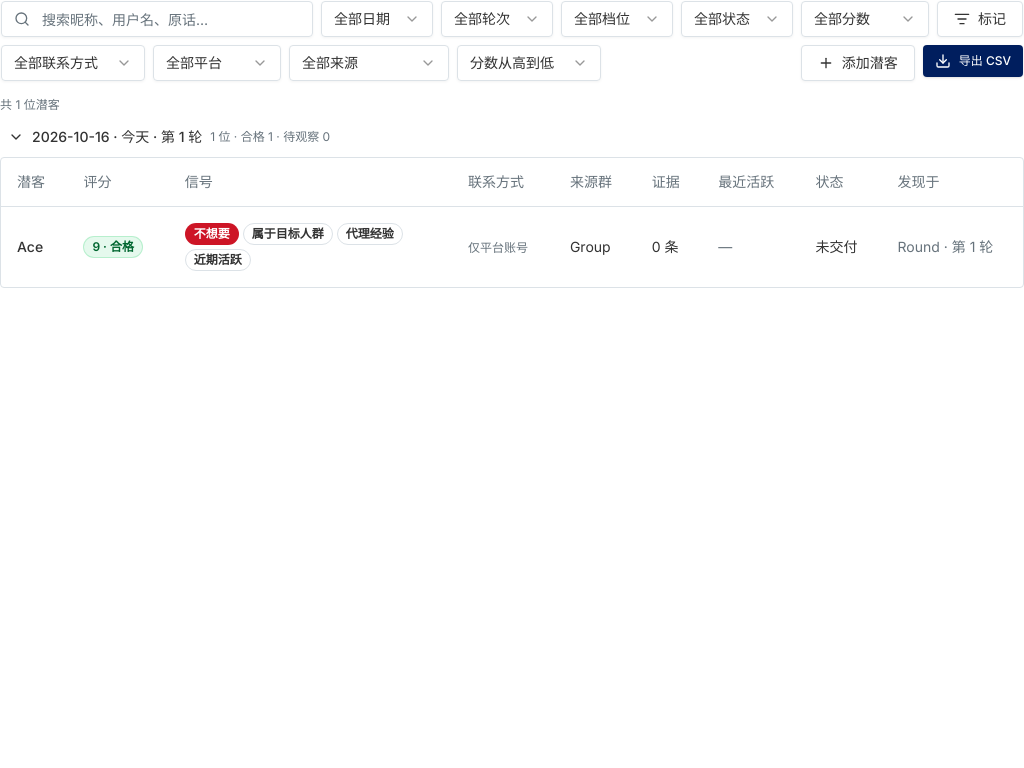
Test: FlowLeads › shows the signals a prospect scored on and the points of each
The width and height of the screenshot is (1024, 768).
Expected: the text "不想要" is shown, [185,222,239,244]
What coordinates should you click on to do the following:
click the text "Ace"
I would click on:
 (30, 246)
Its box is [17,238,43,254].
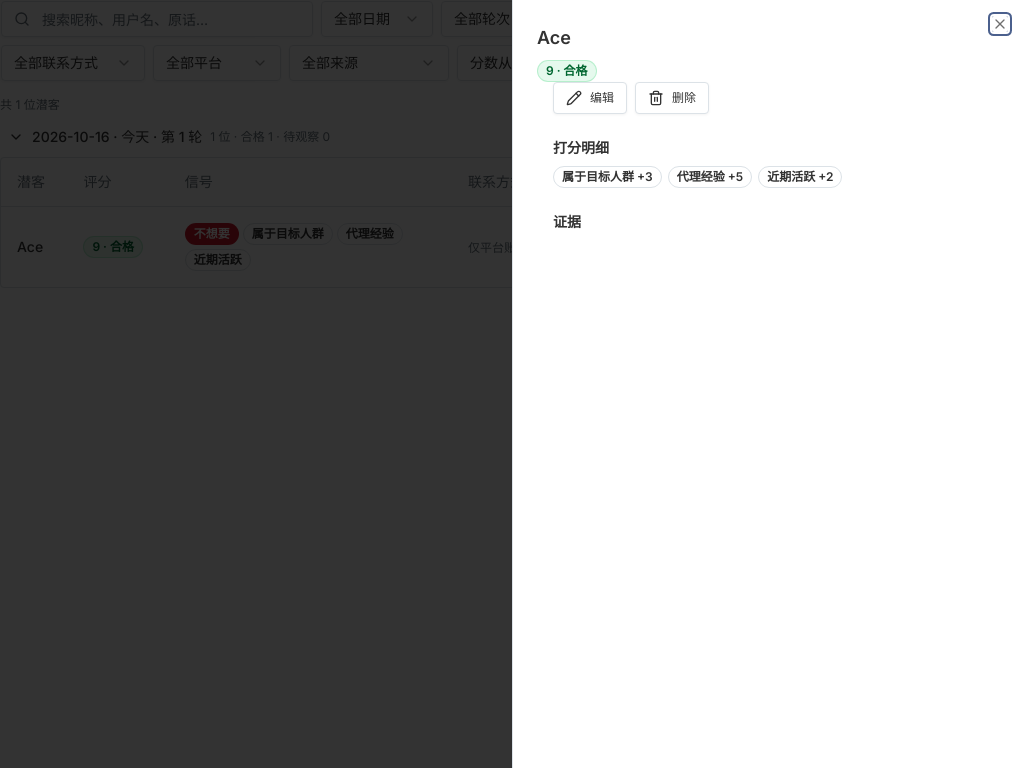
Result: the dialog shows "属于目标人群 +3" at [512,0,1023,767]
Result: the dialog shows "代理经验 +5" at [512,0,1023,767]
Result: the dialog shows "近期活跃 +2" at [512,0,1023,767]
